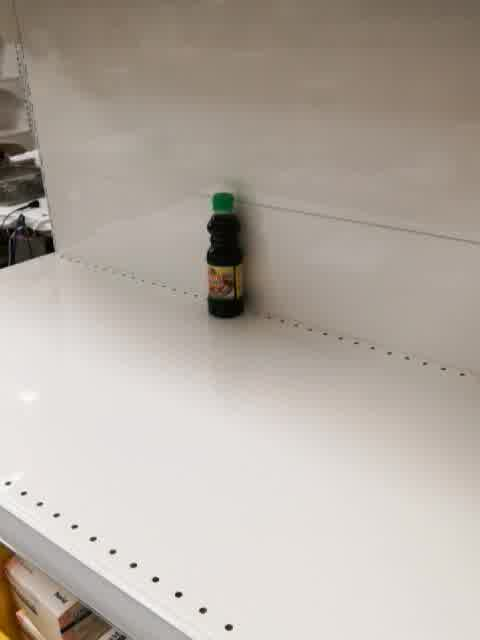cookingoil: (203, 191, 247, 319)
